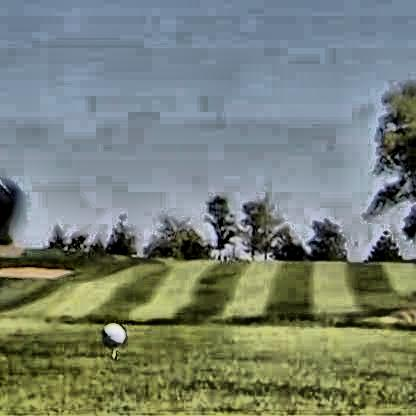golfball: (98, 320, 123, 344)
